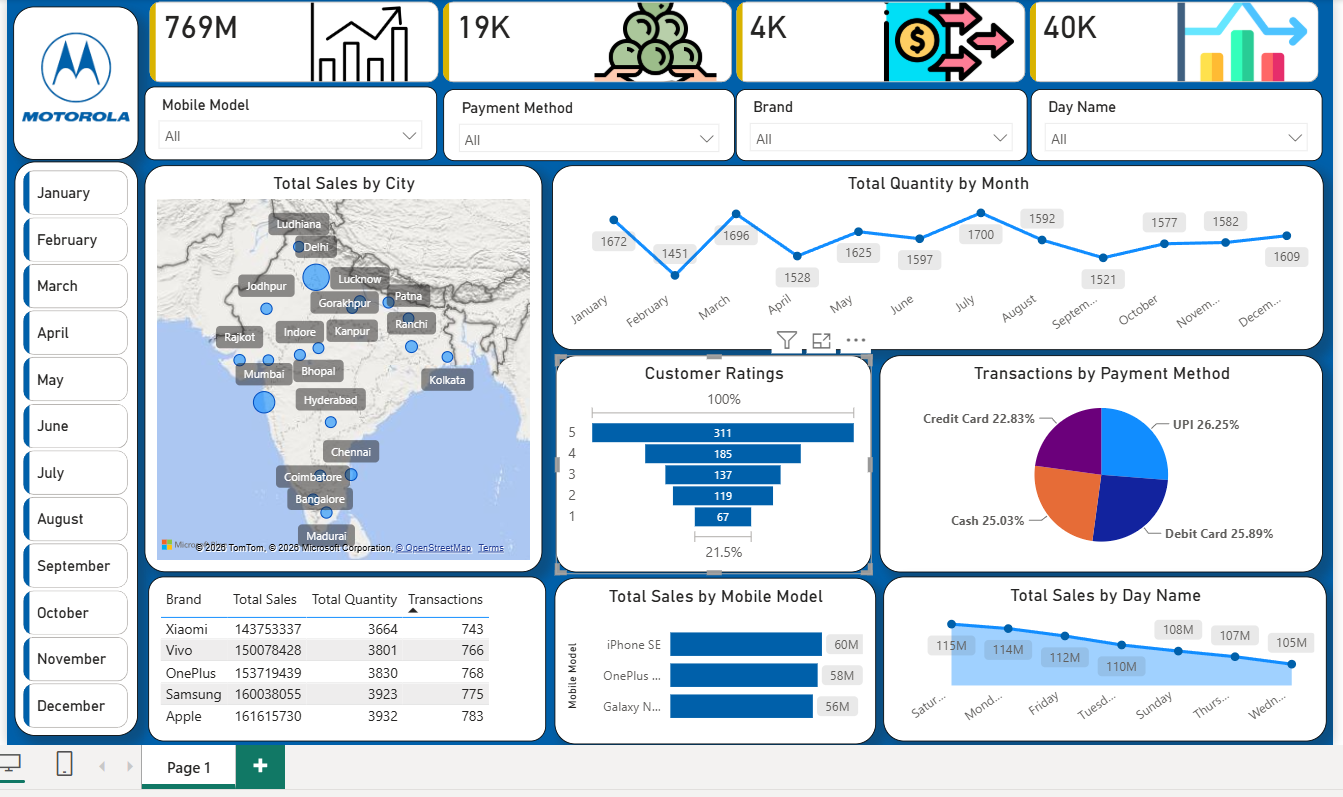

This screenshot's page, from the dashboard's own definition file:
{"tool":"powerbi","page":{"name":"Page 1","canvas":[1280,720],"ordinal":0},"visuals":[{"type":"shape","box":[5.5,6.9,120.8,148.2],"z":0},{"type":"image","box":[9.6,16.5,113.9,116.6],"z":1000},{"type":"shape","box":[6.9,156.4,119.4,554.4],"z":2000},{"type":"advancedSlicerVisual","fields":{"Values":["Sales_Data.Date.Variation.Date Hierarchy.Month"]},"box":[11,160.5,111.1,548.9],"z":3000},{"type":"cardVisual","fields":{"Data":["Sales_Data.Total Sales","Sales_Data.Total Quantity","Sales_Data.Transactions","Sales_Data.Average"]},"box":[133.2,2.8,1139.5,83.6],"z":4000},{"type":"map","fields":{"Category":["Sales_Data.City"],"Size":["Sales_Data.Total Sales"]},"box":[132.9,160.8,384.1,393.1],"z":5000},{"type":"lineChart","fields":{"Y":["Sales_Data.Total Quantity"],"Category":["Sales_Data.Date.Variation.Date Hierarchy.Month","Sales_Data.Date.Variation.Date Hierarchy.Day"]},"box":[525.9,160.8,744.8,178.7],"z":6000},{"type":"clusteredBarChart","fields":{"Category":["Sales_Data.Mobile Model"],"Y":["Sales_Data.Total Sales"]},"box":[528.3,558.5,310.1,160.5],"z":7000},{"type":"pieChart","fields":{"Category":["Sales_Data.Payment Method"],"Y":["Sales_Data.Transactions"]},"box":[842.5,344.4,428.1,209.9],"z":8000},{"type":"funnel","title":"Customer Ratings","fields":{"Category":["Sales_Data.Customer Ratings"],"Y":["CountNonNull(Sales_Data.Customer Ratings)"]},"box":[529.7,344.4,304.6,209.9],"z":9000},{"type":"areaChart","fields":{"Category":["Sales_Data.Day Name"],"Y":["Sales_Data.Total Sales"]},"box":[845.3,557.1,428.1,159.2],"z":10000},{"type":"tableEx","fields":{"Values":["Sales_Data.Brand","Sales_Data.Total Sales","Sales_Data.Total Quantity","Sales_Data.Transactions"]},"box":[135.8,557.1,384.2,159.2],"z":11000},{"type":"slicer","fields":{"Values":["Sales_Data.Mobile Model"]},"box":[133.2,85,282,70.9],"z":12000},{"type":"slicer","fields":{"Values":["Sales_Data.Payment Method"]},"box":[421,87.1,281.4,69.2],"z":13000},{"type":"slicer","fields":{"Values":["Sales_Data.Brand"]},"box":[703.5,87.1,281.4,69.2],"z":14000},{"type":"slicer","fields":{"Values":["Sales_Data.Day Name"]},"box":[988.2,87.1,281.4,69.2],"z":15000}]}

Visuals, with their boxes in screenshot pixels (x1, y1, x2, y2):
shape: x1=13 y1=4 x2=138 y2=157
image: x1=17 y1=14 x2=135 y2=134
shape: x1=14 y1=158 x2=138 y2=732
advancedSlicerVisual - Sales_Data.Date.Variation.Date Hierarchy.Month: x1=18 y1=163 x2=133 y2=731
cardVisual - Sales_Data.Total Sales x Sales_Data.Total Quantity: x1=145 y1=0 x2=1324 y2=86
map - Sales_Data.City x Sales_Data.Total Sales: x1=145 y1=163 x2=542 y2=570
lineChart - Sales_Data.Total Quantity x Sales_Data.Date.Variation.Date Hierarchy.Month: x1=551 y1=163 x2=1322 y2=348
clusteredBarChart - Sales_Data.Mobile Model x Sales_Data.Total Sales: x1=554 y1=574 x2=874 y2=740
pieChart - Sales_Data.Payment Method x Sales_Data.Transactions: x1=879 y1=353 x2=1322 y2=570
"Customer Ratings" funnel: x1=555 y1=353 x2=870 y2=570
areaChart - Sales_Data.Day Name x Sales_Data.Total Sales: x1=882 y1=573 x2=1325 y2=738
tableEx - Sales_Data.Brand x Sales_Data.Total Sales: x1=148 y1=573 x2=545 y2=738
slicer - Sales_Data.Mobile Model: x1=145 y1=84 x2=437 y2=158
slicer - Sales_Data.Payment Method: x1=443 y1=87 x2=734 y2=158
slicer - Sales_Data.Brand: x1=735 y1=87 x2=1026 y2=158
slicer - Sales_Data.Day Name: x1=1029 y1=87 x2=1321 y2=158
